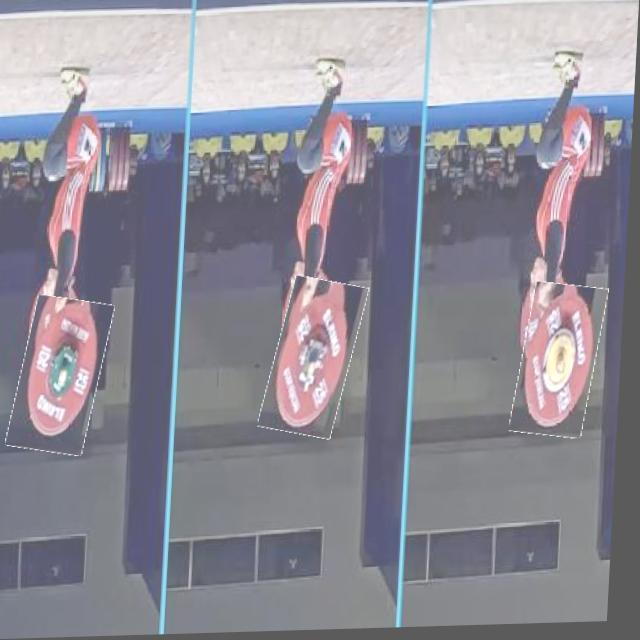barbell: (270, 280, 367, 441), (16, 296, 113, 456), (520, 286, 609, 443)
